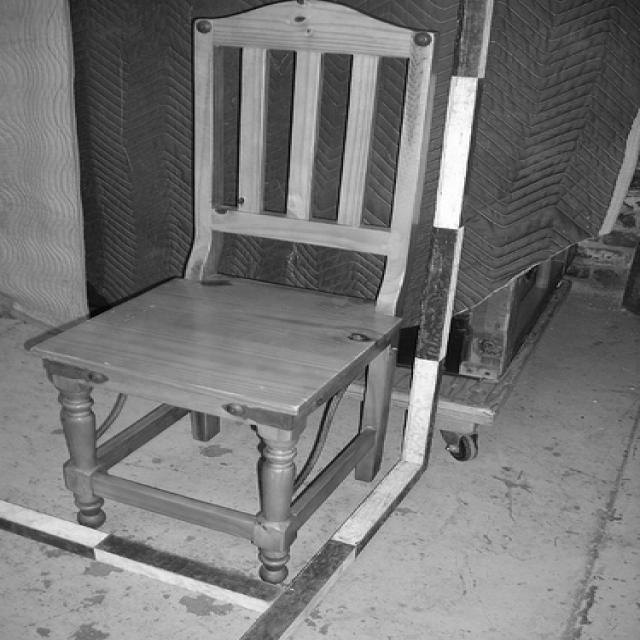chair: (26, 0, 453, 584)
